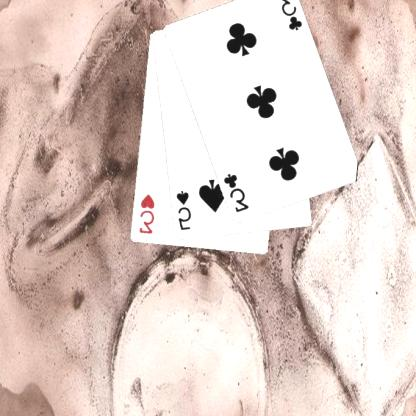3C: (222, 171, 252, 214), (277, 0, 306, 32)
3H: (138, 192, 157, 236)
5S: (174, 188, 194, 232)
